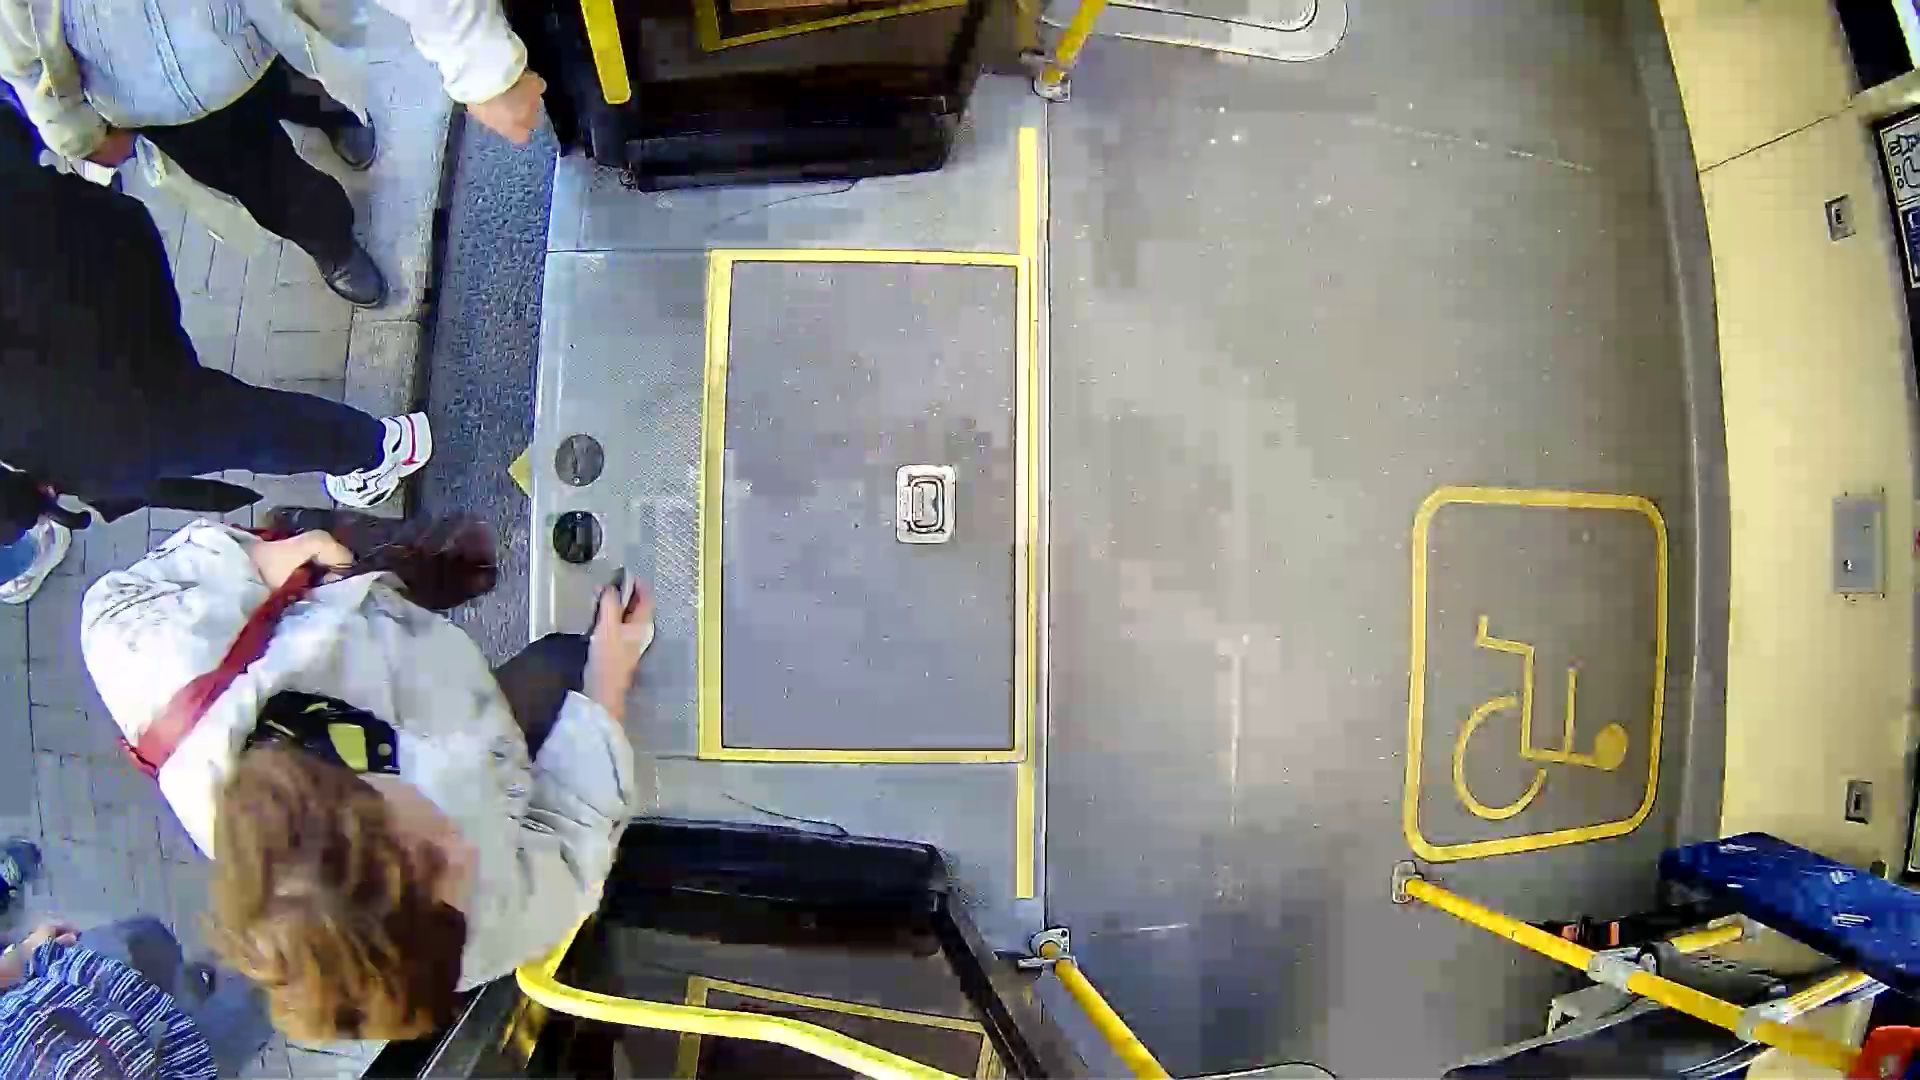person: (104, 505, 755, 1008)
